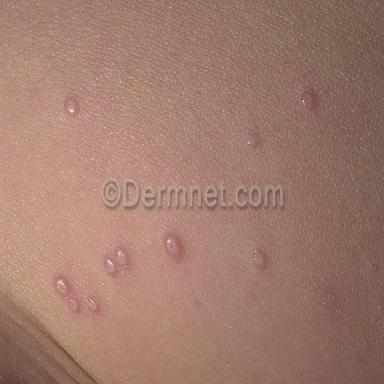Molluscum-Contagiosum: (164, 231, 184, 262), (54, 275, 71, 297), (253, 250, 268, 271), (115, 246, 128, 270), (65, 96, 79, 117), (84, 296, 100, 314), (105, 256, 118, 276), (301, 93, 316, 110), (68, 297, 80, 313), (247, 134, 257, 148)
